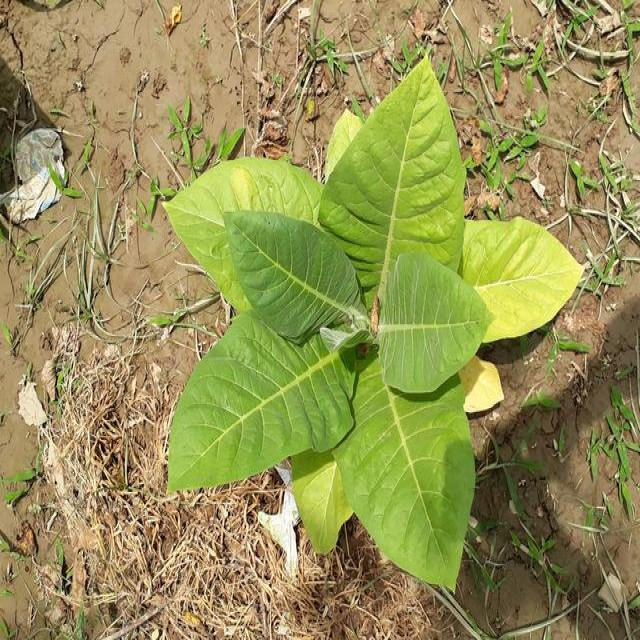crop: (173, 71, 583, 571)
